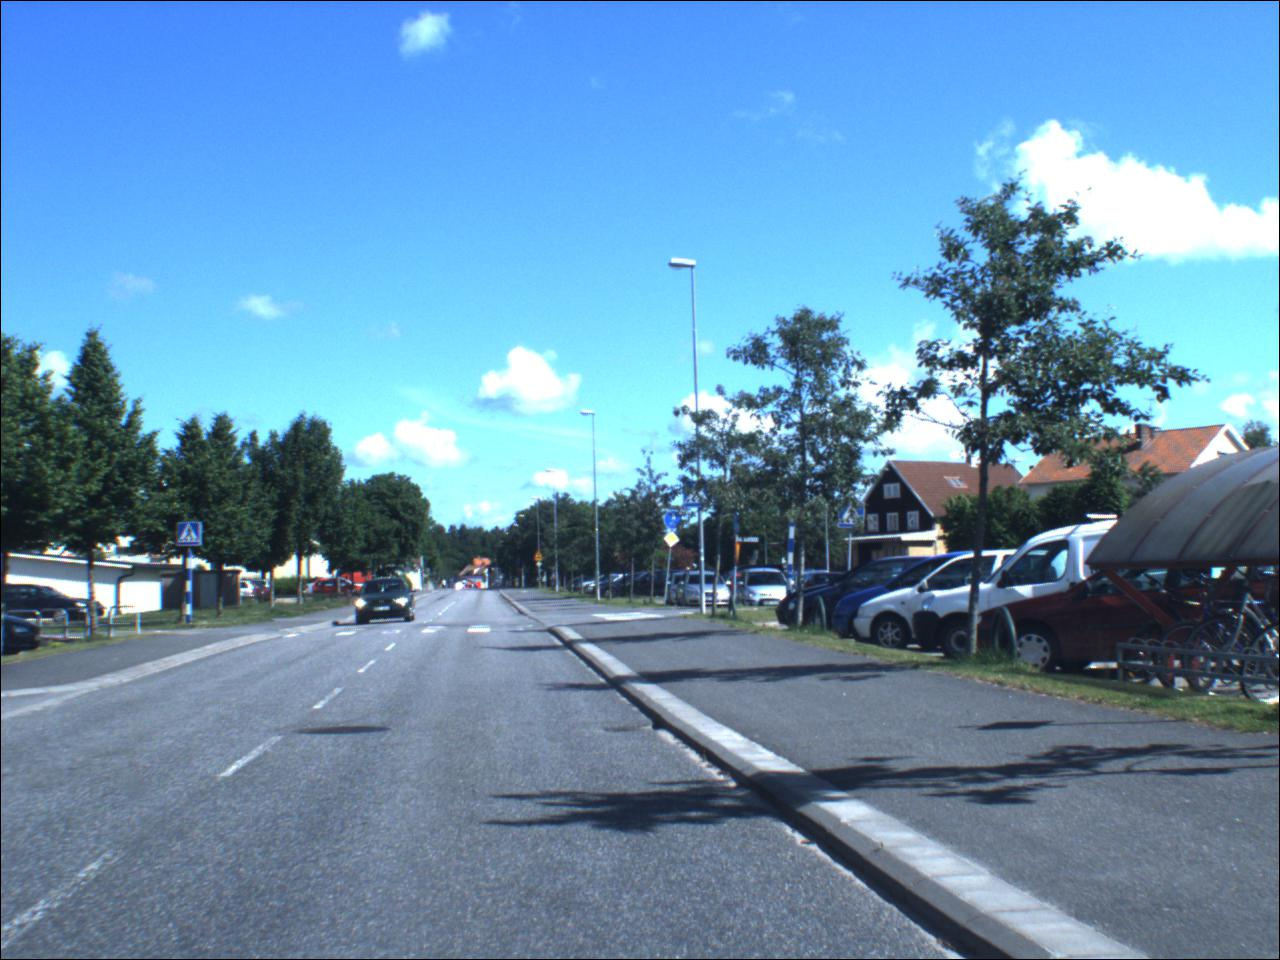GIVE_WAY: (735, 542, 746, 567)
PEDESTRIAN_CROSSING: (839, 503, 867, 530), (684, 483, 711, 510), (179, 524, 204, 547)
PRIORITY_ROAD: (664, 533, 683, 550)
WARNING_DANGER: (533, 549, 545, 563)
